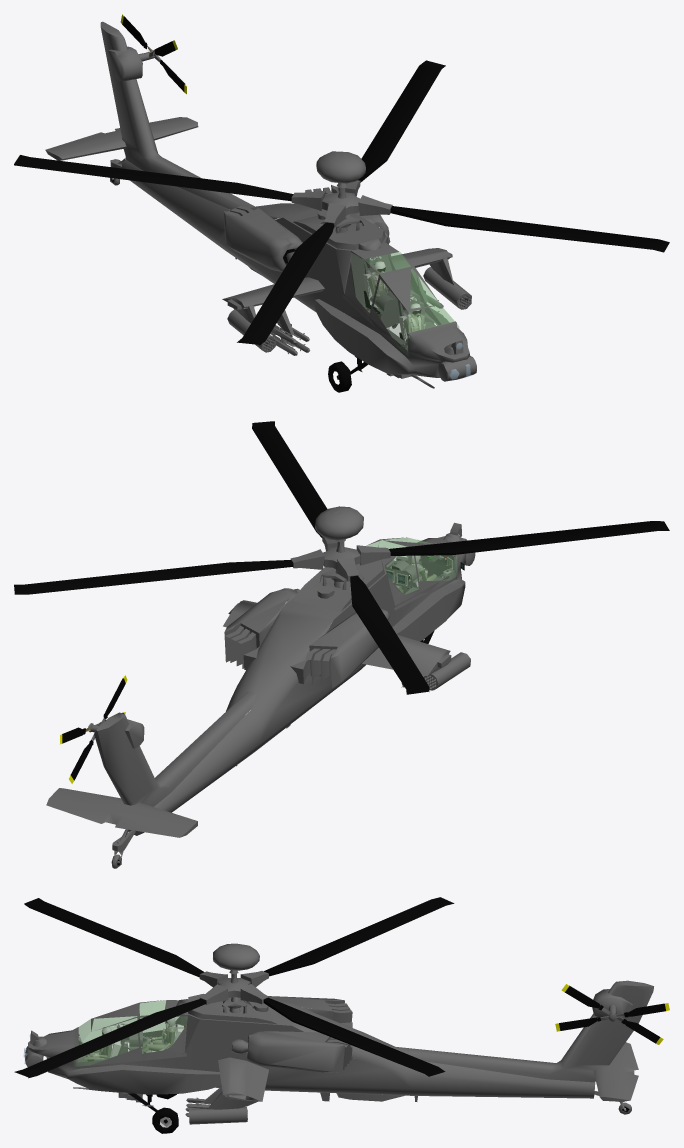
File: attack_heli_apache.glb
3 renders of one model, top to bottom at view 1: azimuth 30°, elevation 25°; view 2: azimuth 150°, elevation 25°; view 3: azimuth 270°, elevation 25°, orthographic. The views are drawn at different scales.
Parts seen in each view (by area): view 1: Mesh2 Group1 Model__C; view 2: Mesh2 Group1 Model__C; view 3: Mesh2 Group1 Model__C.
Boxes of the visible parts, bbox=[...] form: Mesh2 Group1 Model__C: bbox=[14, 14, 669, 392]; Mesh2 Group1 Model__C: bbox=[14, 421, 669, 868]; Mesh2 Group1 Model__C: bbox=[14, 897, 669, 1133].
Size of the model in its own units: 11.71 by 5.02 by 17.7.
Materials: 81 (21 with a texture image).
